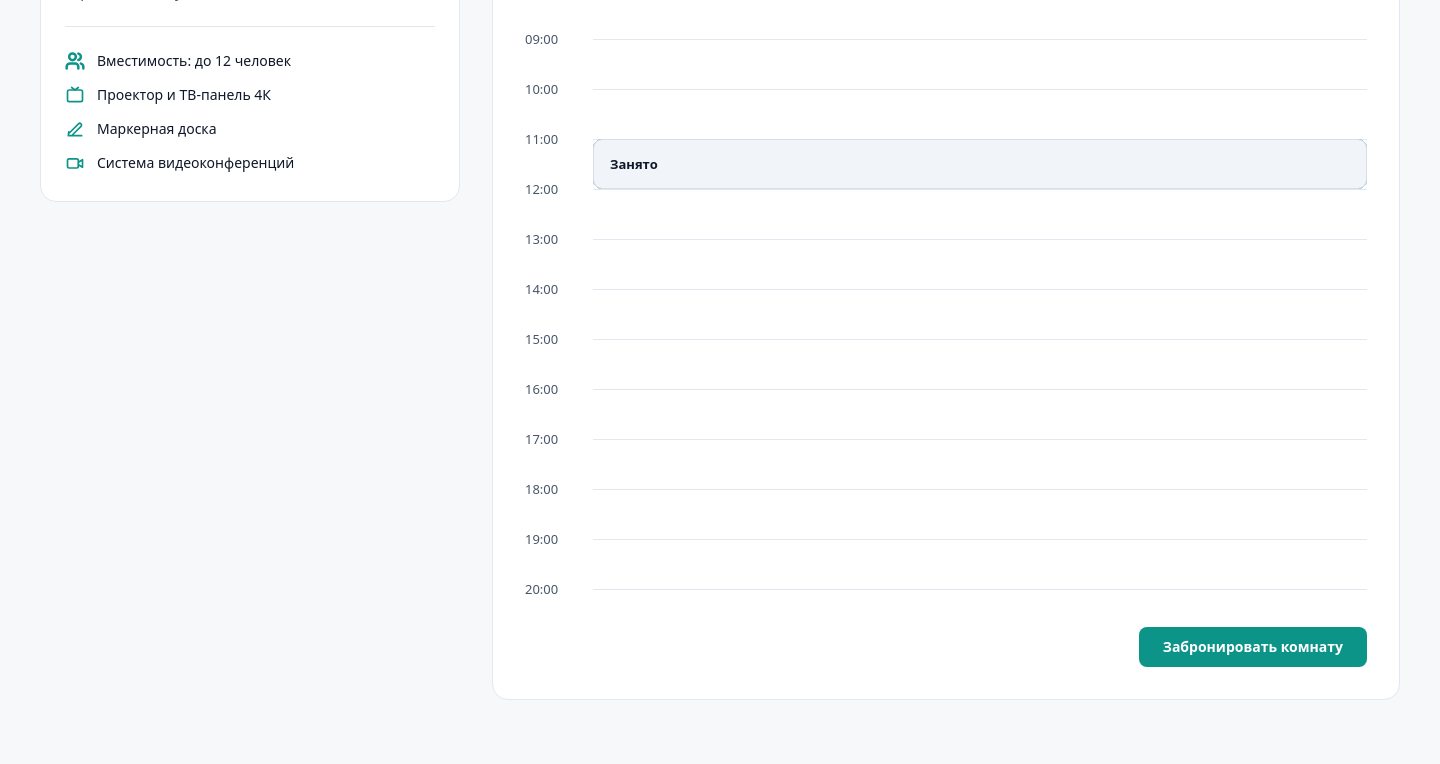
Test: RoomPage › показывает безопасную ошибку неизвестного сбоя создания
(page scrolled)
Click the button "Забронировать комнату".
click(1253, 647)  # box 1139,627 -> 1367,667
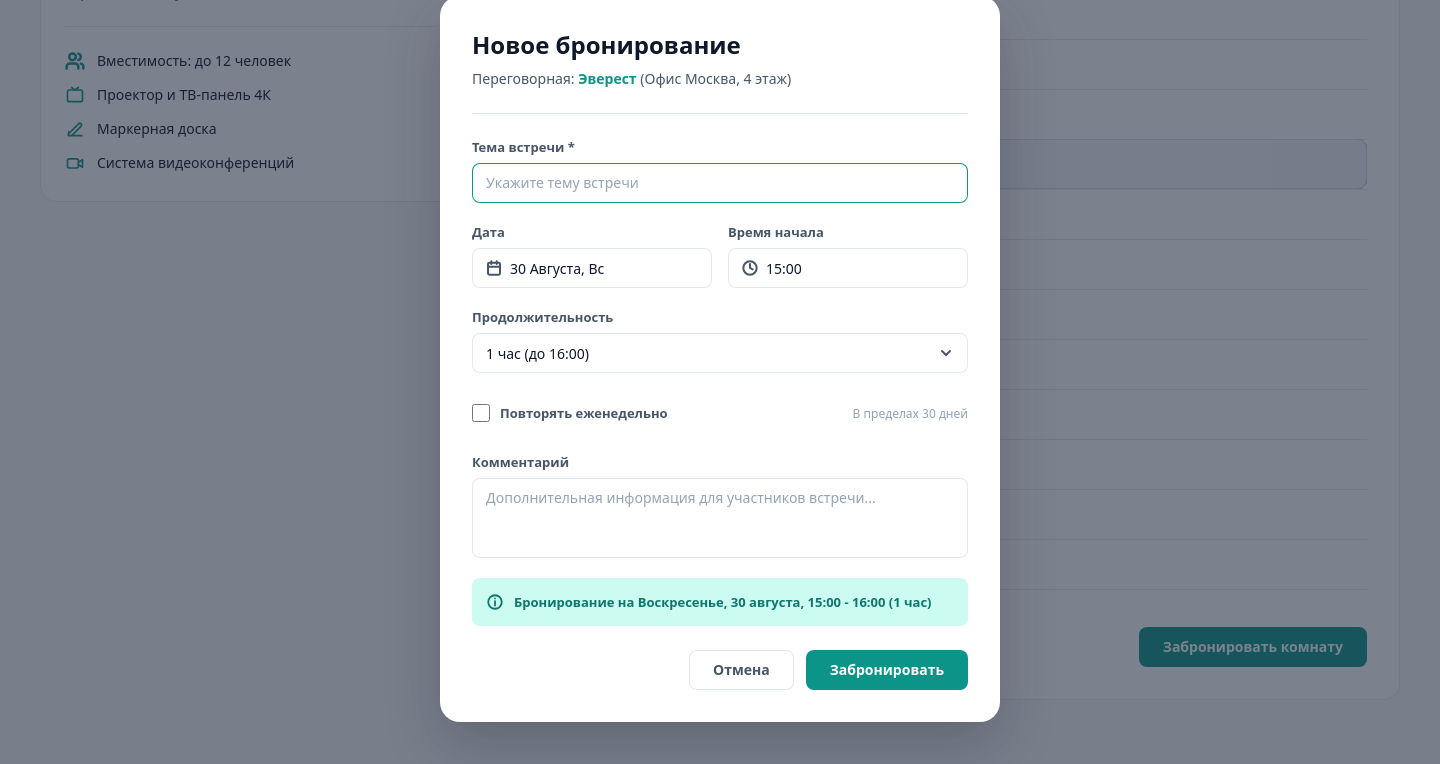
Type "Демо" into the field labelled "Тема встречи *".
click(720, 183); type("Демо")  # box 472,163 -> 968,203
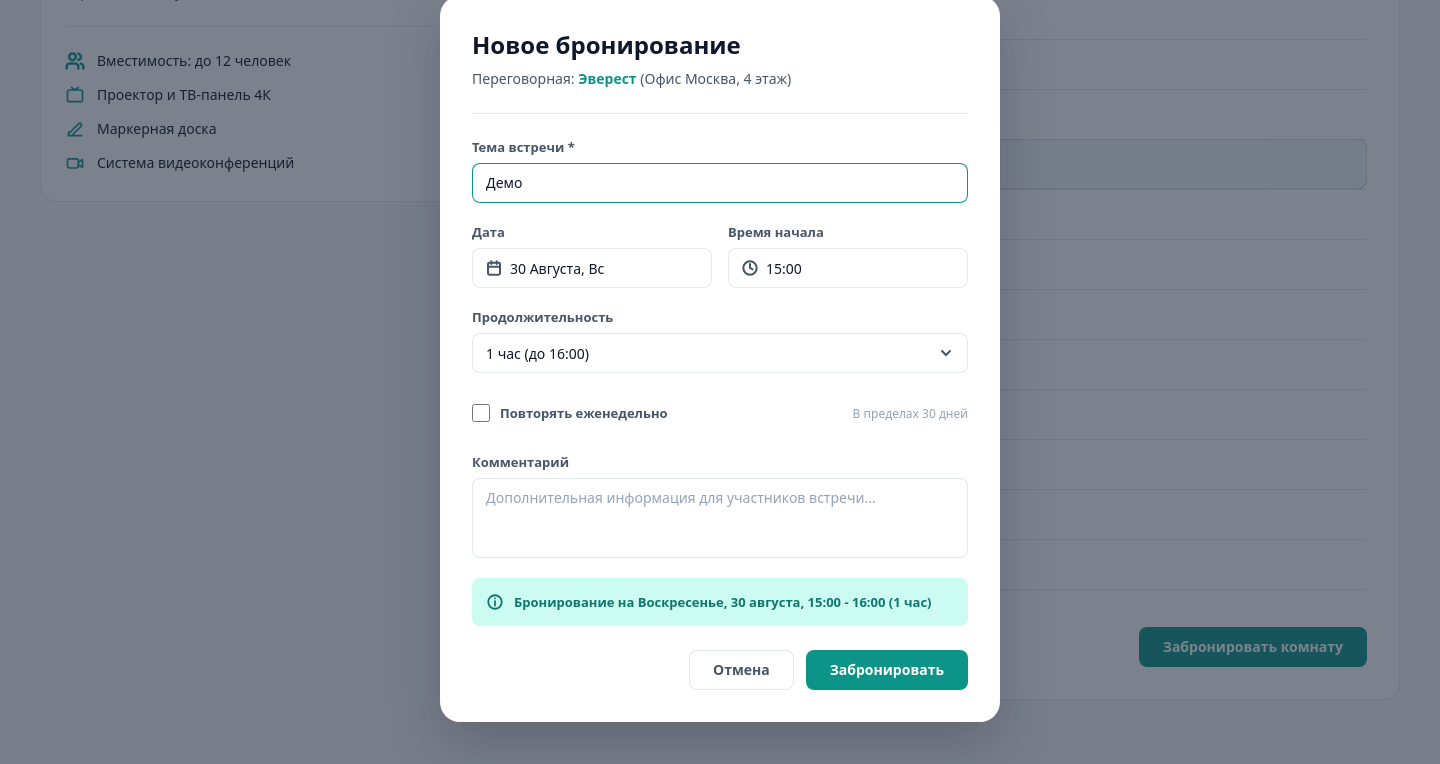
Click the button "Забронировать".
click(887, 670)  # box 806,650 -> 968,690
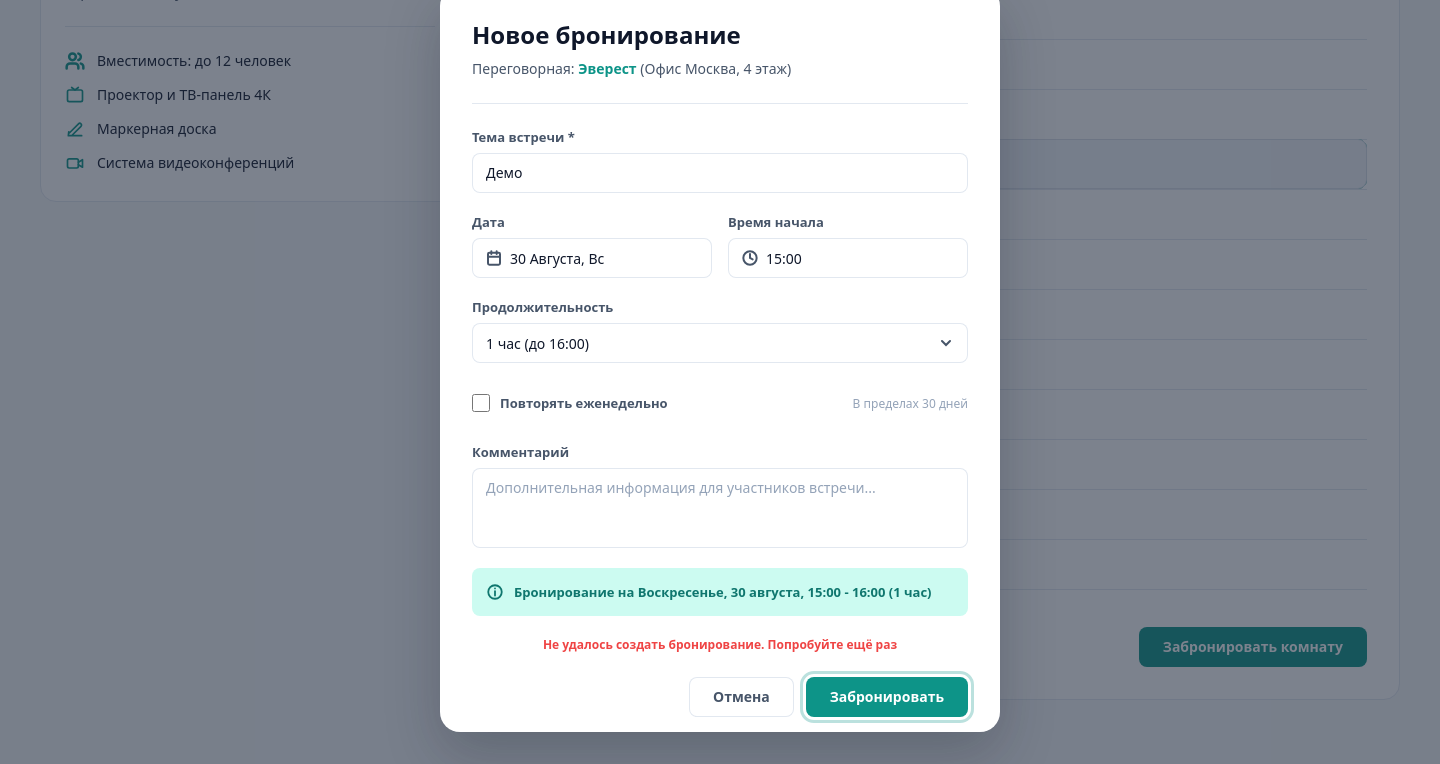
Result: the message reads "Не удалось создать бронирование. Попробуйте ещё раз" at 543,636 -> 897,653
